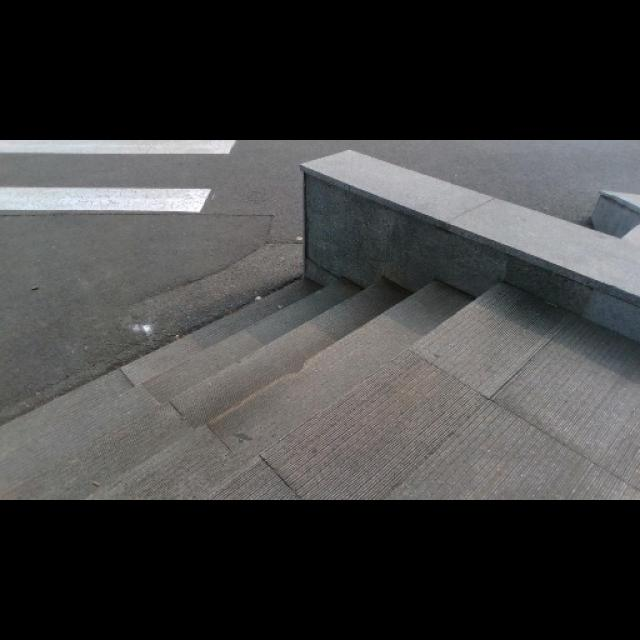stair: (46, 294, 504, 474)
